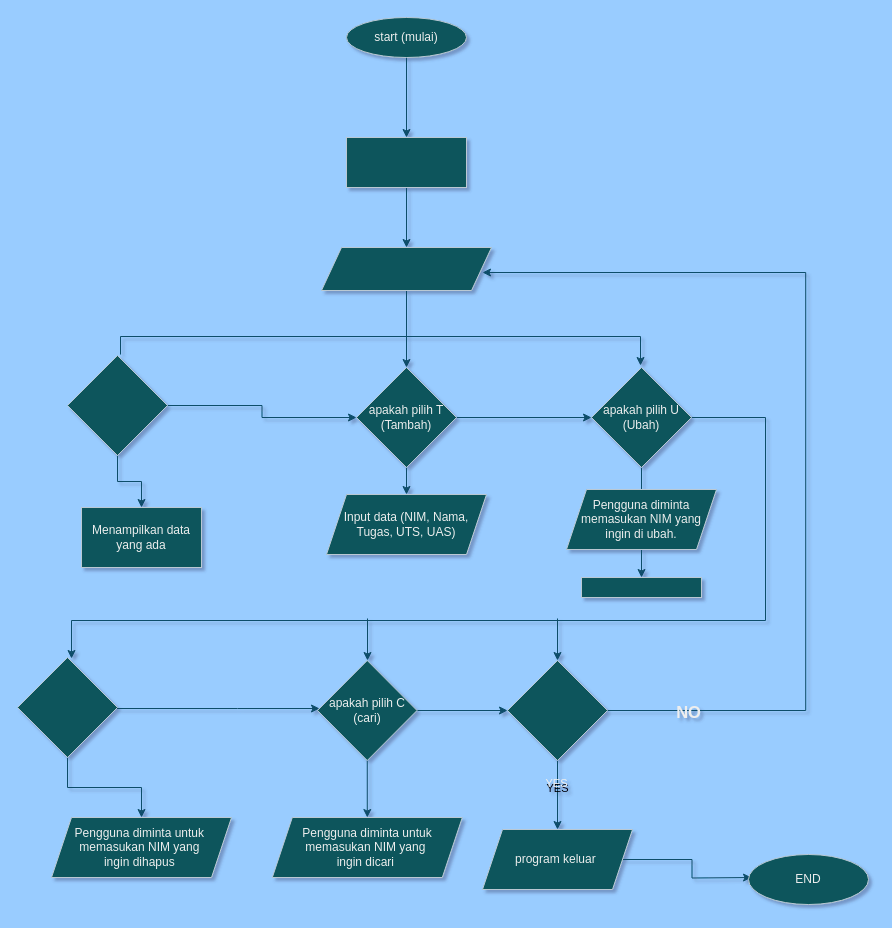
Some shapes in this 892 by 928 pixel diagram are drawn without their labels. Each missing label, with the box of its shape:
apakah pilih H (Hapus): (16, 656, 118, 758)
apakah pilih K (Keluar): (506, 660, 608, 760)
apakah pilih L (pilih)?: (66, 354, 168, 456)
Hasil pengubah data: (580, 576, 702, 598)
Input Pilih Menu: (320, 246, 492, 290)
Tampilkan Menu: (346, 136, 466, 188)
